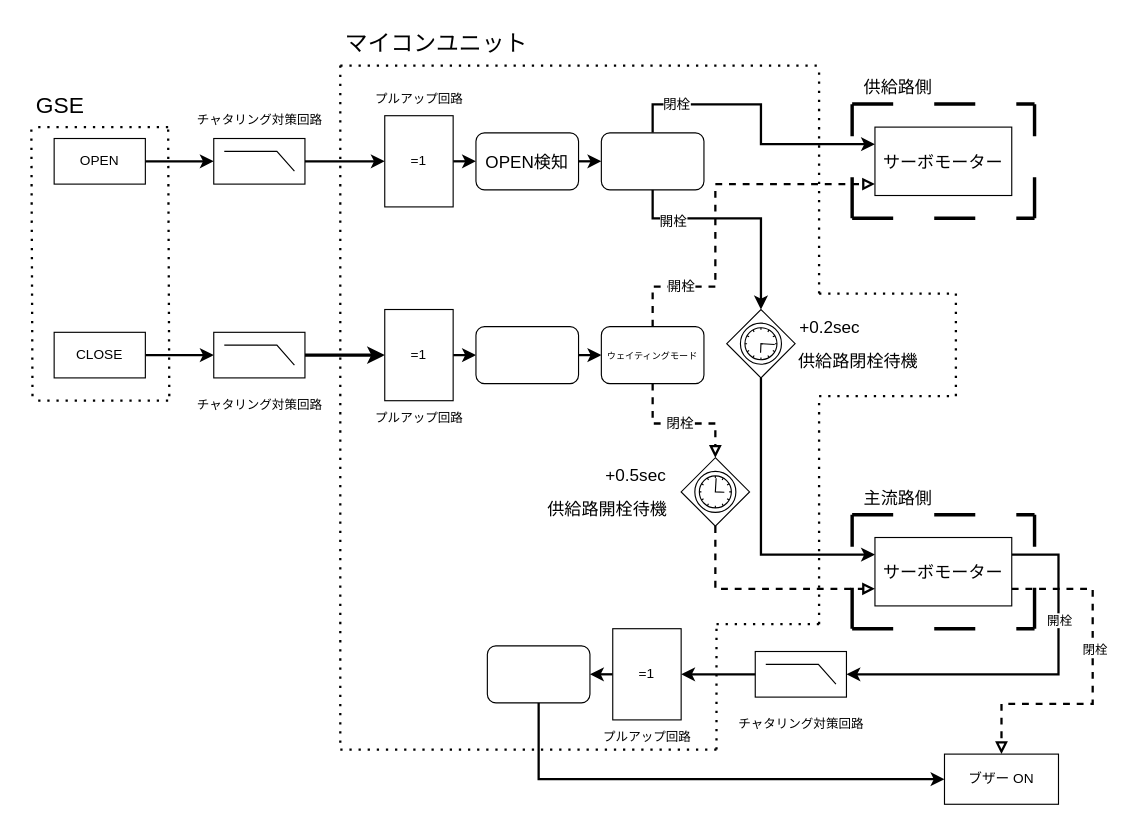
The diagram is 1126 pixels wide and 824 high, and some of its shapes have lost their labels. The centre of each missing label's shape, as x and y in pixels:
CLOSE検知: [527,354]
ローンチモード: [652,161]
開栓検知: [538,674]
